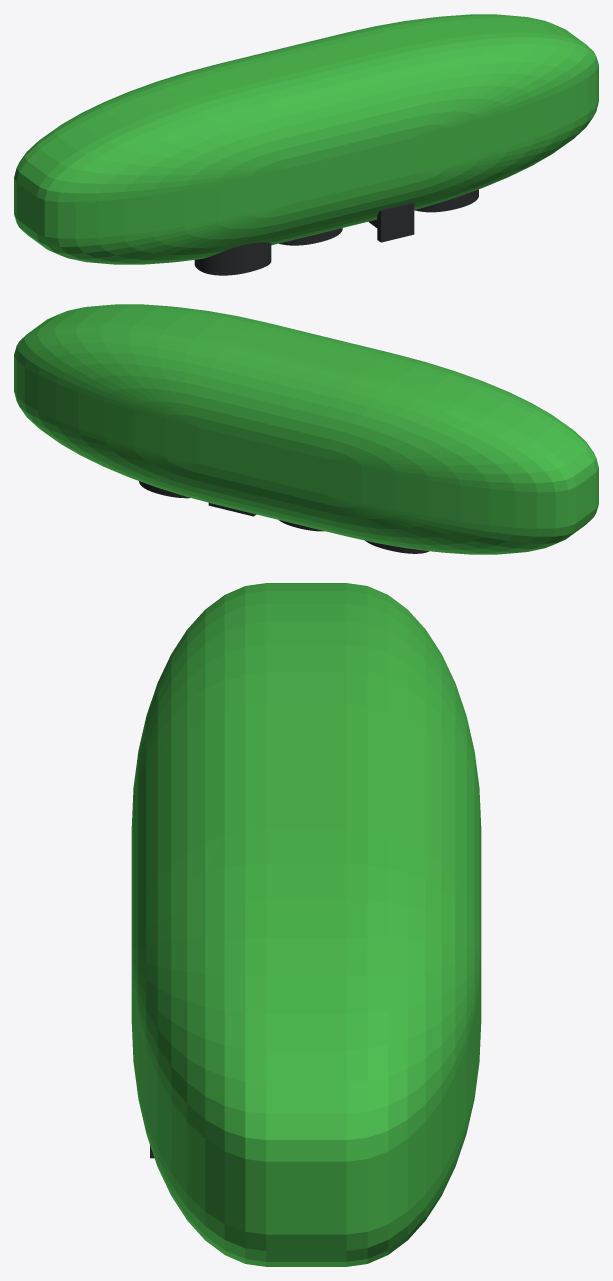
Rendered from tinker.obj.
3 views of the same model, one above another, from view 1: azimuth 30°, elevation 25°; view 2: azimuth 150°, elevation 25°; view 3: azimuth 270°, elevation 25° (orthographic). The views are drawn at different scales.
Visible parts, largest first — view 1: group_0_4634441, group_0_2829873; view 2: group_0_4634441, group_0_2829873; view 3: group_0_4634441.
Part boxes in pixels (bbox=[...]): group_0_4634441: bbox=[14, 14, 598, 264]; group_0_2829873: bbox=[194, 189, 478, 275]; group_0_4634441: bbox=[14, 304, 598, 554]; group_0_2829873: bbox=[139, 481, 429, 553]; group_0_4634441: bbox=[131, 583, 481, 1266].
Bounding box in the file's own units: 74 × 20.5 × 20.
